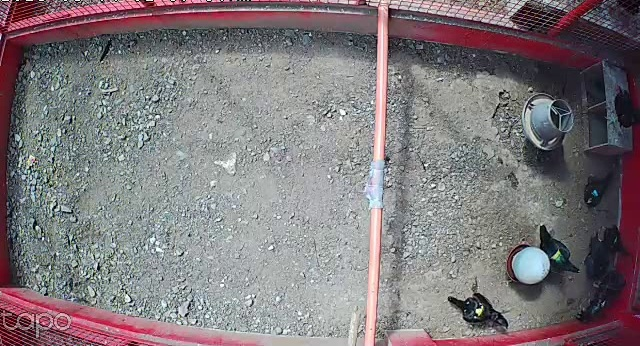Chicken: (534, 223, 583, 278), (440, 289, 510, 326), (606, 84, 640, 130), (599, 222, 637, 258), (582, 169, 617, 208)
Rooster: (572, 260, 629, 323)
Saddle_Color_Yellow: (474, 302, 486, 317)
Saddle_Color_YellowGreen: (552, 250, 564, 261)
